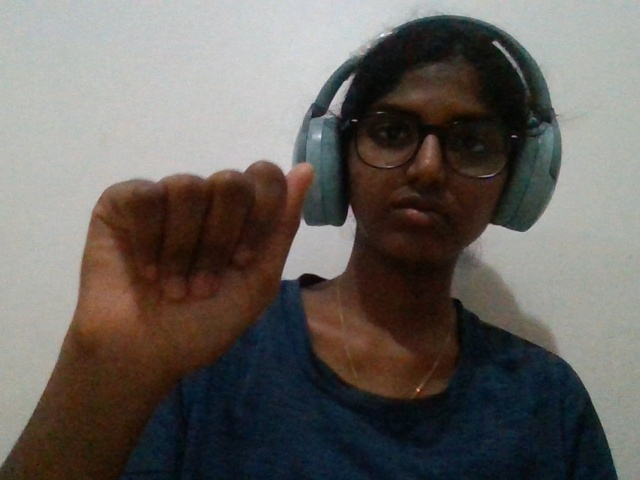A: (21, 146, 329, 437)
